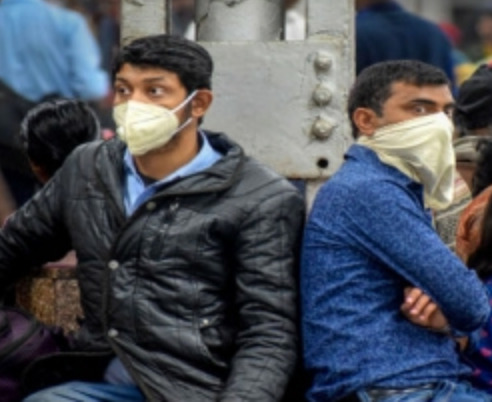Bad: (1, 37, 456, 401)
